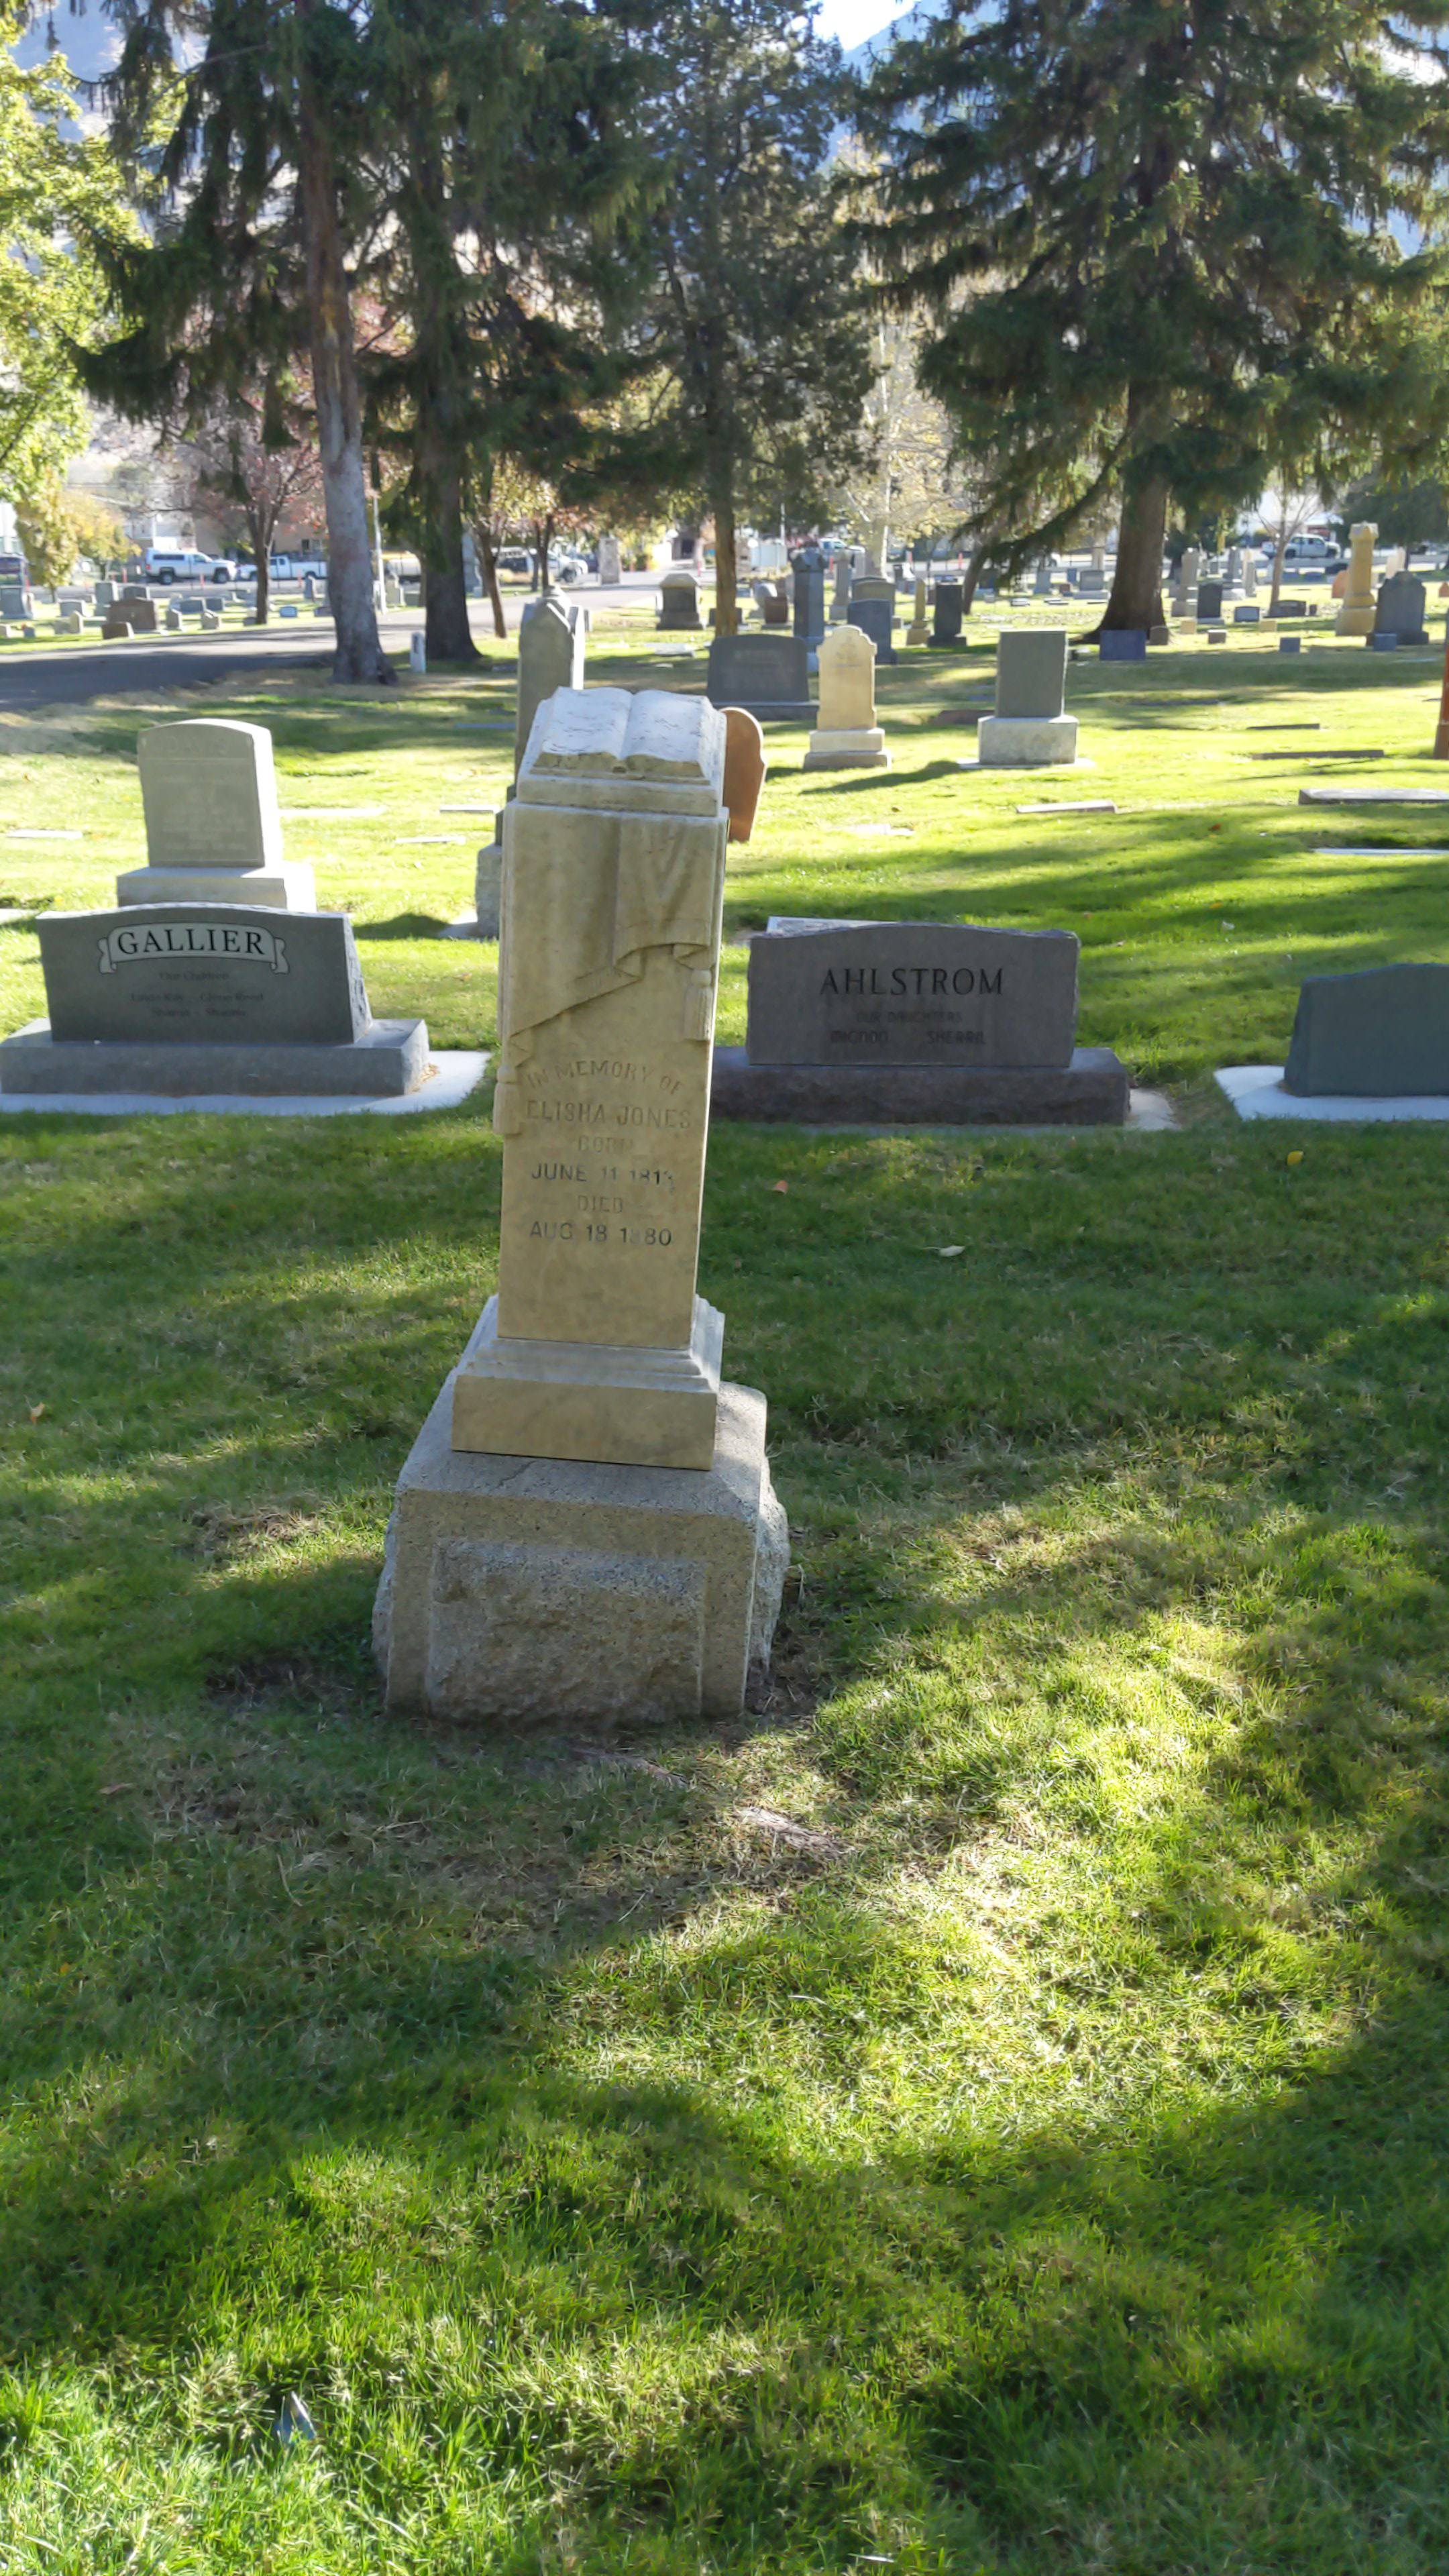obelisk: (449, 679, 731, 1453)
